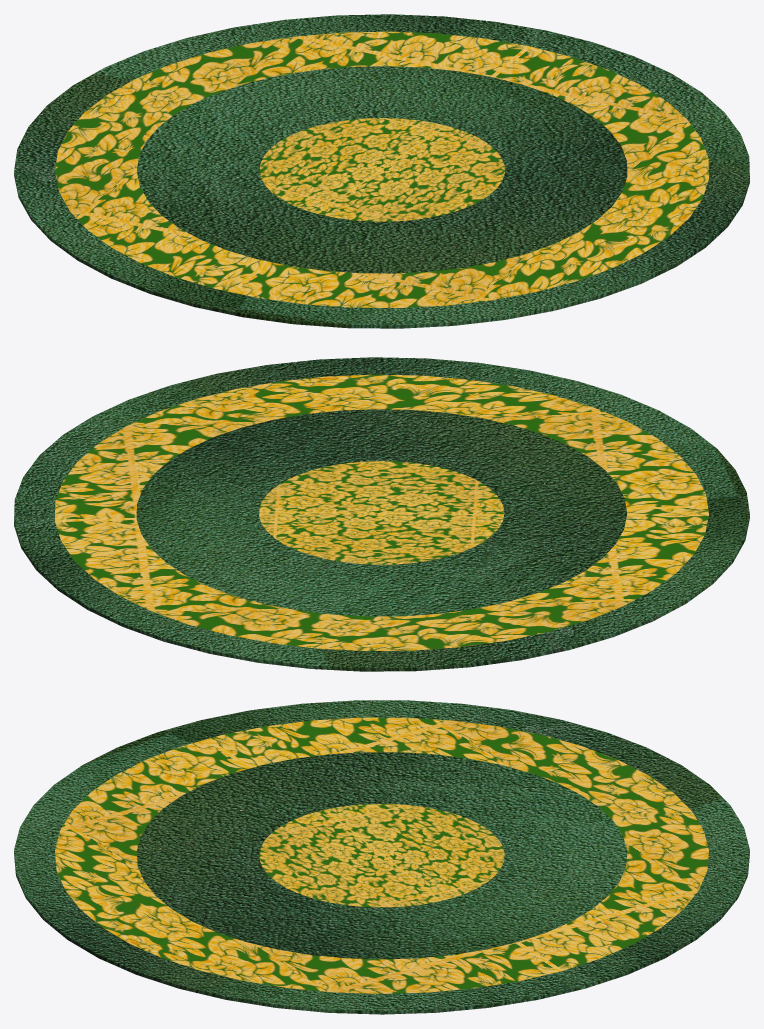
File: Alfombra.obj
The picture shows the model from 3 angles, top to bottom: view 1: azimuth 30°, elevation 25°; view 2: azimuth 150°, elevation 25°; view 3: azimuth 270°, elevation 25°; orthographic projection.
Parts seen in each view (by area): view 1: Alfombra:pCylinder1; view 2: Alfombra:pCylinder1; view 3: Alfombra:pCylinder1.
Boxes of the visible parts, left/top/right/bottom form: Alfombra:pCylinder1: left=14, top=14, right=749, bottom=328; Alfombra:pCylinder1: left=14, top=357, right=749, bottom=671; Alfombra:pCylinder1: left=14, top=700, right=749, bottom=1014.
Size of the model in its own units: 21.29 by 0.1054 by 21.3.
2 materials, 2 textured.
